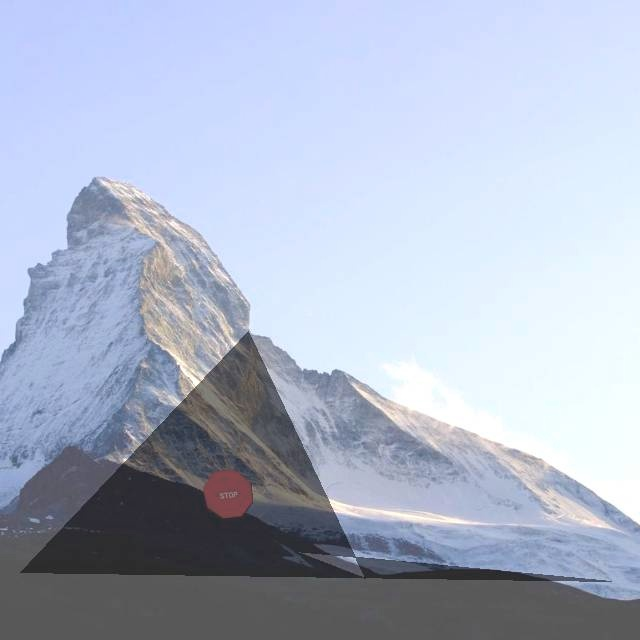STOP: (202, 469, 253, 519)
